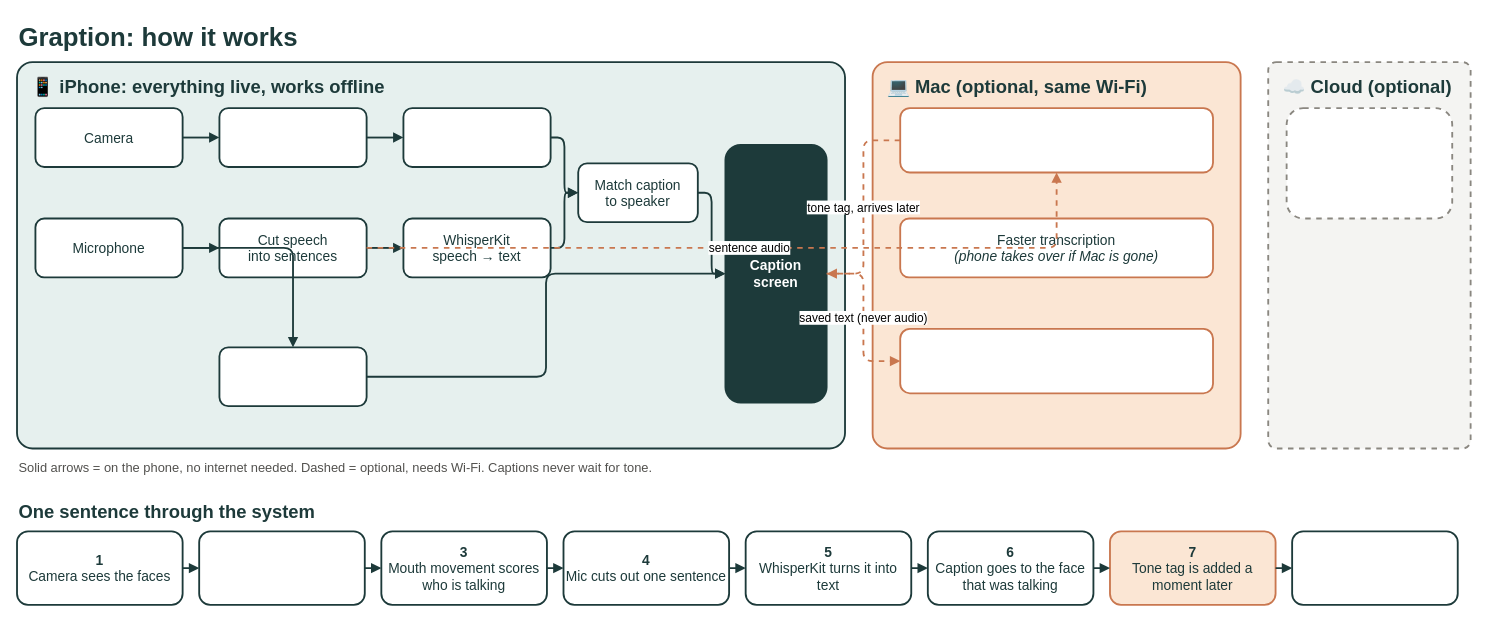
This 1487x621 diagram has some shape labels left out. Each missing label, with the centre of its shape:
2 Each face gets an ID and color: point (281, 567)
8 Doorbell? An alert pops up: point (1374, 567)
Find faces + give each an ID: point (292, 137)
Meeting dashboard search + AI summary: point (1056, 361)
Same tone server, so testers at home can use it too: point (1369, 163)
Sound alerts (doorbell, siren…): point (292, 376)
Tone server excited · upset · calm, or no tag: point (1056, 140)
Who is moving their mouth?: point (476, 137)
